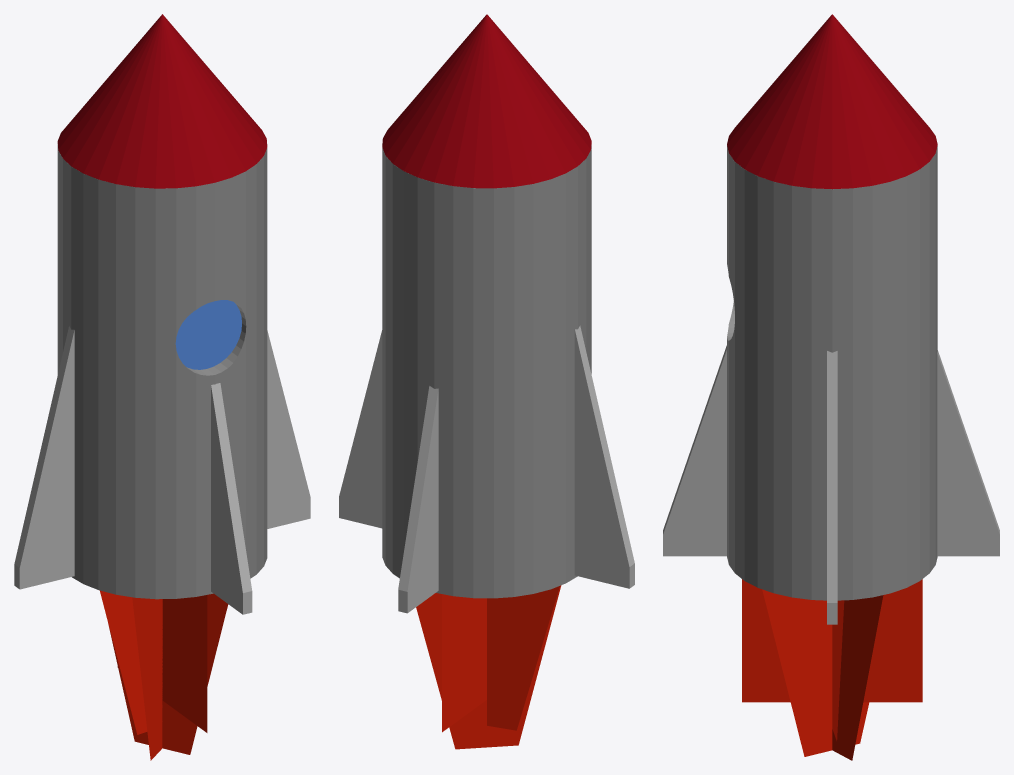
Rendered from Rocket.fbx.
3 views of the same model, side by side, from view 1: azimuth 30°, elevation 25°; view 2: azimuth 150°, elevation 25°; view 3: azimuth 270°, elevation 25° (orthographic).
Parts seen in each view (by area): view 1: Cylinder, Cylinder.002, Cube, Cube.001, Plane, Plane.003, Plane.002, Plane.001; view 2: Cylinder, Cylinder.002, Cube, Plane.002, Cube.001, Plane, Plane.003; view 3: Cylinder, Cylinder.002, Cube.001, Plane, Plane.001, Plane.003, Cube, Plane.002.
Part boxes in pixels (x1,y1,x2,y2): Cylinder: (57,130,267,599); Cylinder.002: (57,14,267,188); Cube: (14,326,310,589); Cube.001: (211,383,252,614); Plane: (117,595,207,732); Plane.003: (132,597,162,760); Plane.002: (99,590,162,734); Plane.001: (109,593,228,754); Cylinder: (382,131,591,598); Cylinder.002: (382,14,591,188); Cube: (339,325,634,588); Plane.002: (487,586,559,730); Cube.001: (398,386,438,613); Plane: (442,594,486,732); Plane.003: (416,585,561,749); Cylinder: (727,146,937,600); Cylinder.002: (727,14,937,189); Cube.001: (663,345,999,556); Plane: (742,579,922,702); Plane.001: (762,589,869,756); Plane.003: (832,595,883,760); Cube: (827,351,837,624); Plane.002: (832,600,844,740).
Bounding box in the file's own units: 245 × 592 × 245.
